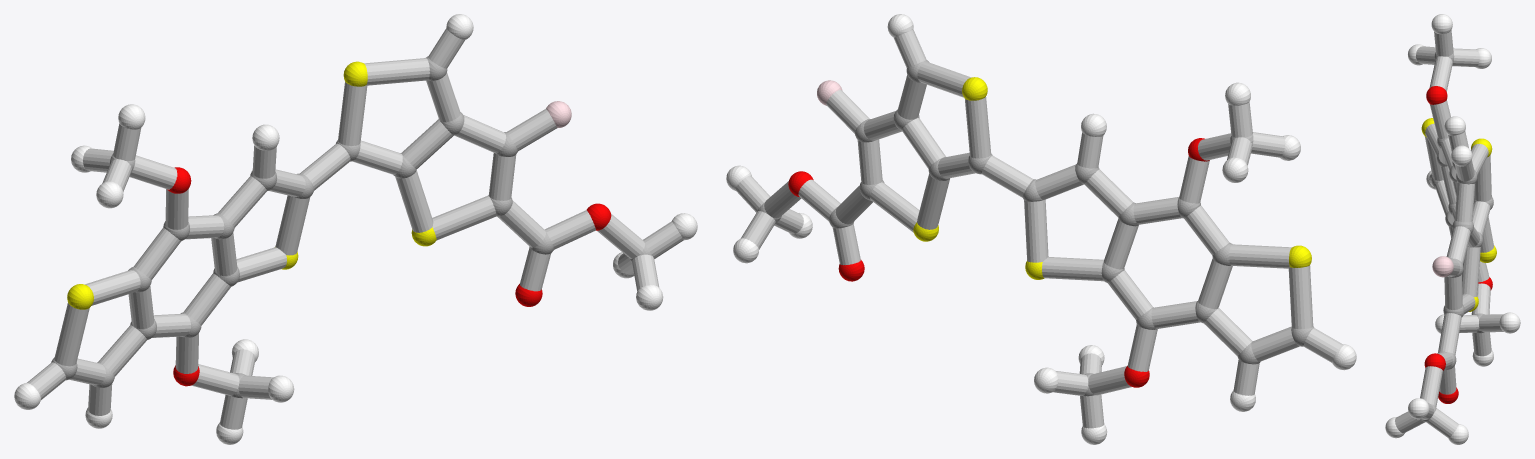
Rendered from Dimethoxy_Benzodithiophene_Phi_20_Theta_340_Methylcarbonyl_3_Fluoro_Thienothiophene.glb.
3 views of the same model, side by side, from view 1: azimuth 30°, elevation 25°; view 2: azimuth 150°, elevation 25°; view 3: azimuth 270°, elevation 25° (orthographic). The views are drawn at different scales.
Parts seen in each view (by area): view 1: grp15205, grp8689, grp1, grp13395, grp7241; view 2: grp15205, grp8689, grp1, grp7241, grp13395; view 3: grp15205, grp8689, grp1, grp13395, grp7241, grp14843.
Boxes of the visible parts, left/top/right/bottom form: grp15205: left=27, top=28, right=683, bottom=429; grp8689: left=14, top=14, right=697, bottom=444; grp1: left=51, top=56, right=652, bottom=398; grp13395: left=167, top=167, right=611, bottom=386; grp7241: left=67, top=61, right=436, bottom=309; grp15205: left=735, top=29, right=1342, bottom=428; grp8689: left=726, top=14, right=1356, bottom=444; grp1: left=757, top=60, right=1314, bottom=396; grp7241: left=913, top=77, right=1311, bottom=279; grp13395: left=788, top=138, right=1209, bottom=387; grp15205: left=1395, top=30, right=1503, bottom=437; grp8689: left=1385, top=14, right=1520, bottom=444; grp1: left=1420, top=52, right=1493, bottom=422; grp13395: left=1424, top=86, right=1492, bottom=403; grp7241: left=1421, top=118, right=1496, bottom=311; grp14843: left=1432, top=256, right=1453, bottom=277.
Bounding box in the file's own units: 16.97 × 9.41 × 3.8.
